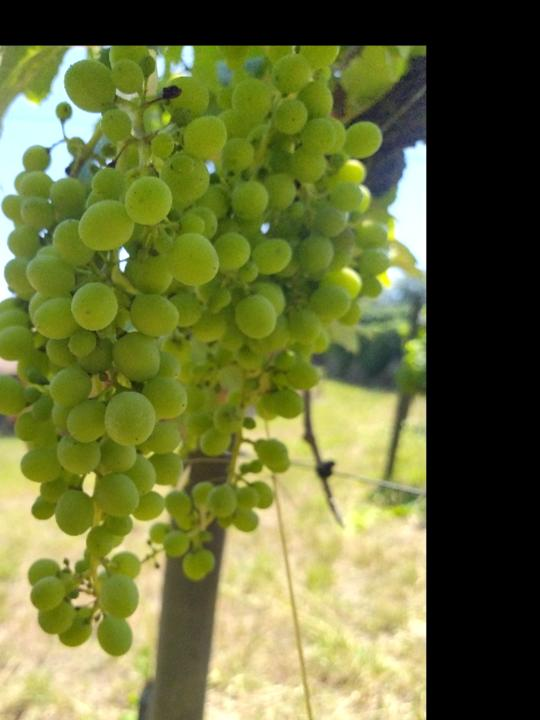grape: (0, 49, 390, 659)
